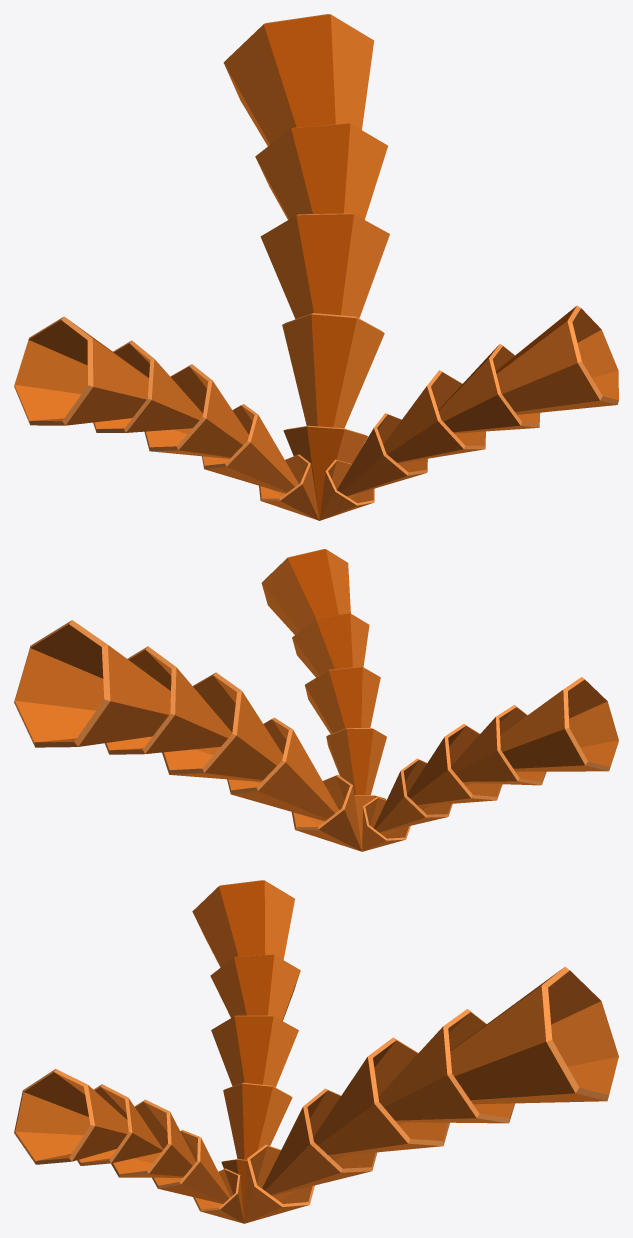
The model's file is PlantSF_06.glb.
The picture shows the model from 3 angles, top to bottom: view 1: azimuth 30°, elevation 25°; view 2: azimuth 150°, elevation 25°; view 3: azimuth 270°, elevation 25°; orthographic projection. The views are drawn at different scales.
Visible parts, largest first — view 1: PlantSF_06; view 2: PlantSF_06; view 3: PlantSF_06.
Boxes of the visible parts, <box> form: PlantSF_06: <box>14,14,618,520</box>; PlantSF_06: <box>14,549,618,851</box>; PlantSF_06: <box>14,880,618,1223</box>.
Size of what is drawn, in the model's own units: 1.18 by 0.7631 by 1.32.
1 material, 1 textured.
